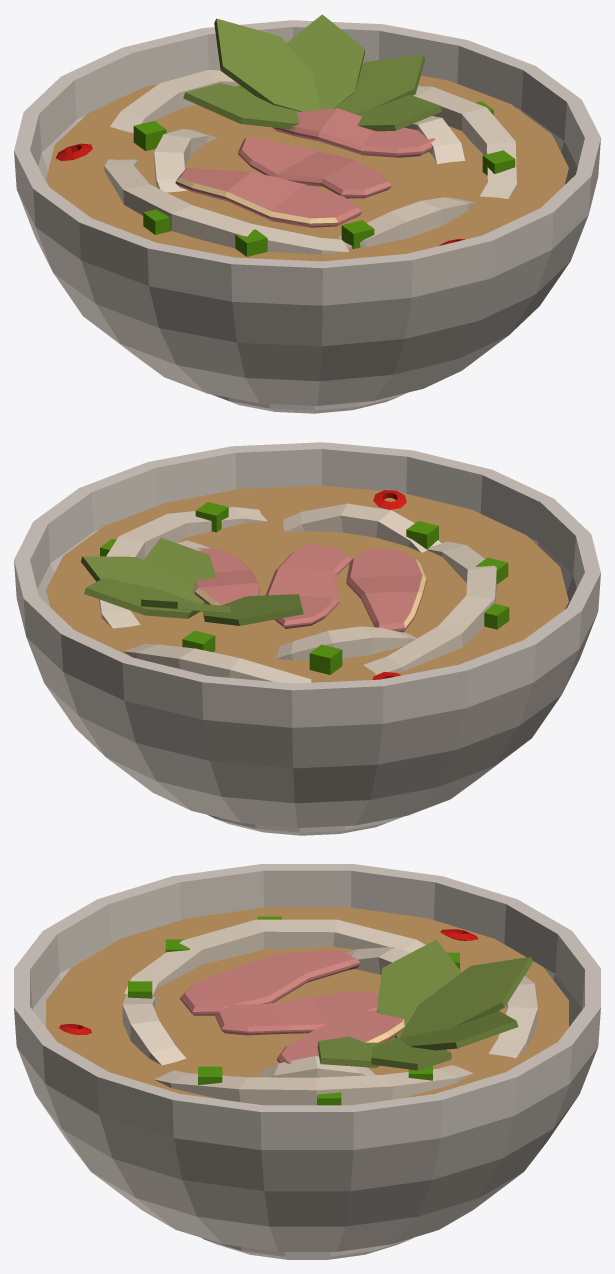
Rendered from SM_Cook_PhoBowl_Full_01.glb.
3 renders of one model, top to bottom at view 1: azimuth 30°, elevation 25°; view 2: azimuth 150°, elevation 25°; view 3: azimuth 270°, elevation 25°, orthographic.
Parts seen in each view (by area): view 1: SM_Cook_PhoBowl_Full_01; view 2: SM_Cook_PhoBowl_Full_01; view 3: SM_Cook_PhoBowl_Full_01.
Part boxes in pixels (left/top/right/bottom): SM_Cook_PhoBowl_Full_01: left=14, top=14, right=600, bottom=413; SM_Cook_PhoBowl_Full_01: left=14, top=442, right=600, bottom=835; SM_Cook_PhoBowl_Full_01: left=14, top=864, right=600, bottom=1259.
Size of the model in its own units: 0.2173 by 0.1061 by 0.2173.
Materials: 1 (1 with a texture image).
